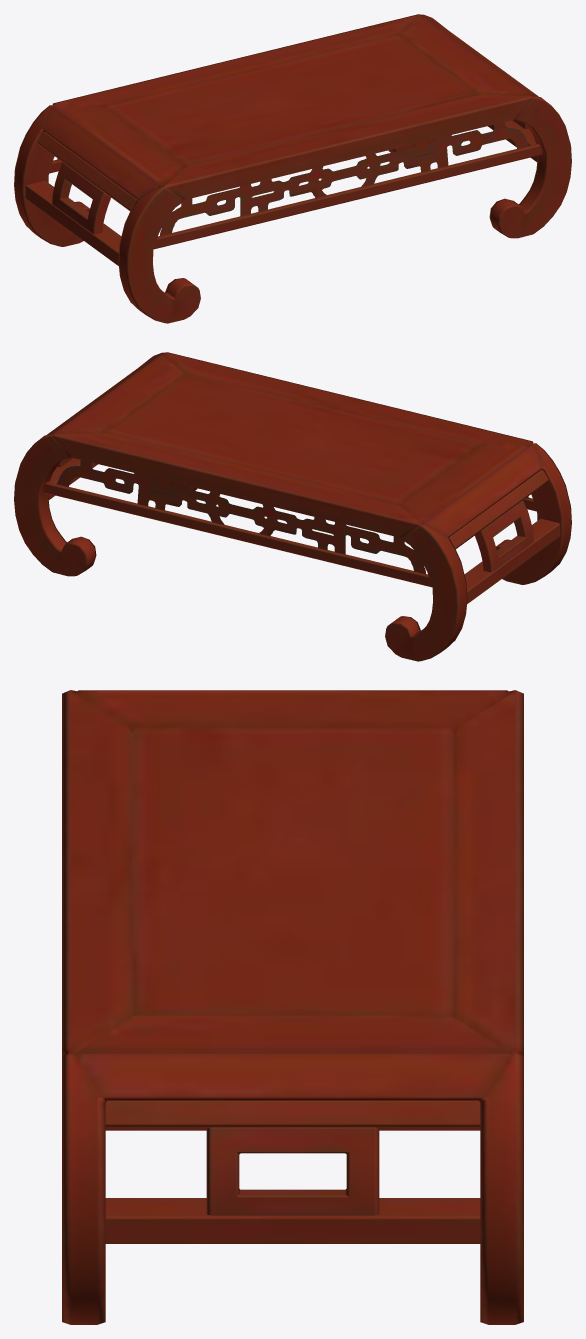
3 views of the same model, one above another, from view 1: azimuth 30°, elevation 25°; view 2: azimuth 150°, elevation 25°; view 3: azimuth 270°, elevation 25° (orthographic). The views are drawn at different scales.
Bounding box in the file's own units: 19.89 × 5.9 × 8.94.
Materials: 1 (1 with a texture image).
